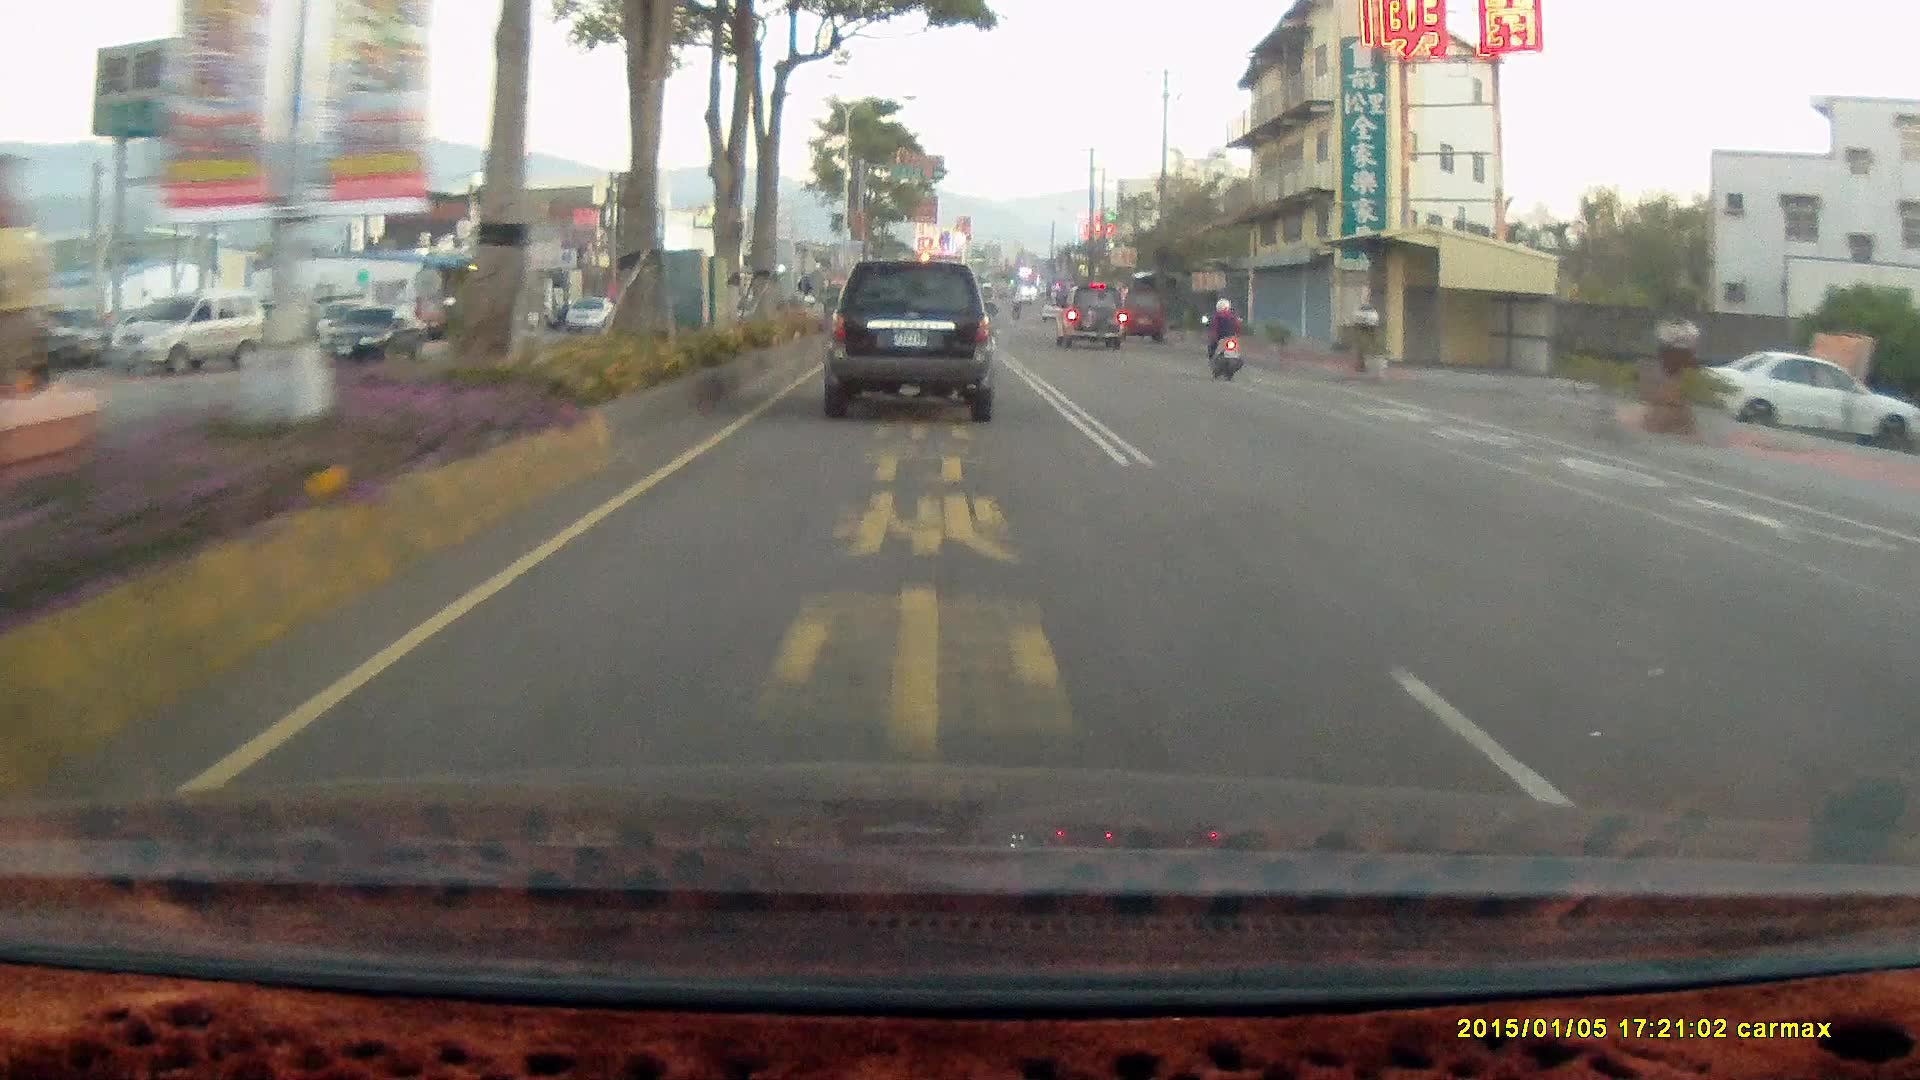rider: (1195, 288, 1255, 391), (1200, 296, 1244, 379)
vehicle: (814, 256, 1004, 423), (820, 261, 997, 424), (1702, 352, 1917, 450), (108, 290, 271, 377), (105, 292, 268, 376), (313, 305, 428, 368), (313, 305, 429, 367), (1058, 286, 1131, 356), (1053, 282, 1126, 349), (1113, 285, 1164, 341)
